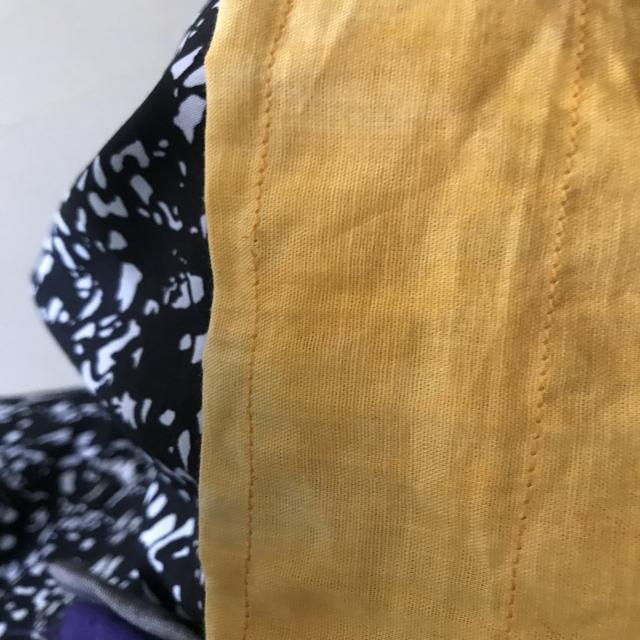broken: (234, 211, 268, 274)
